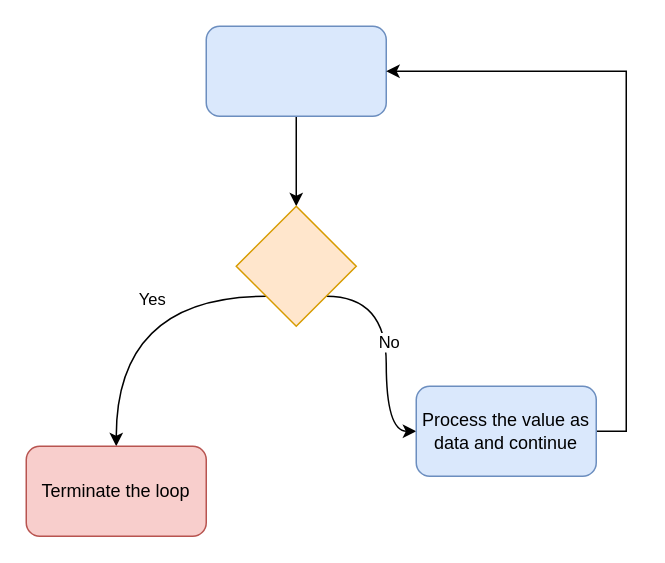
The diagram is 665 pixels wide and 563 high, and some of its shapes have lost their labels. The shapes that lost their labels are listed below. From the top down, each one's centre as x and y in pixels, then its label:
At [295,70]: "Read next value".
At [295,265]: "equals sentinel?".
